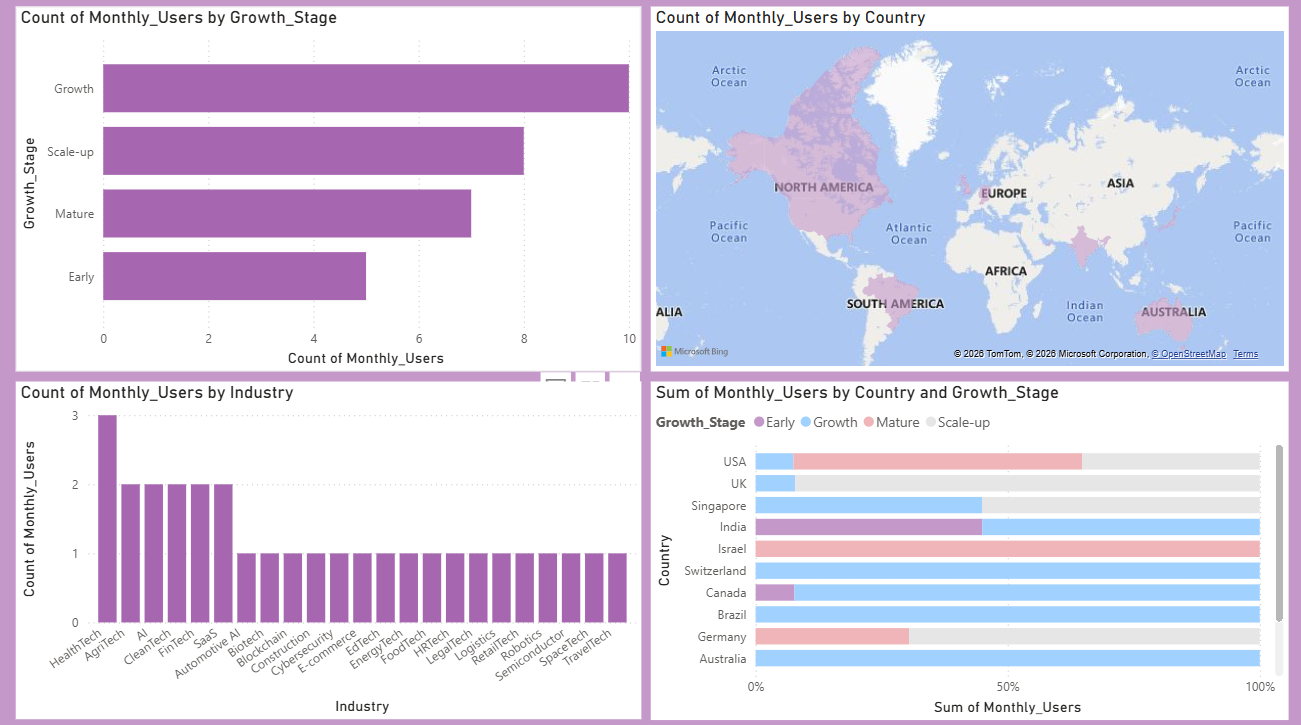

The dashboard page shown, as its layout file describes it:
{"tool":"powerbi","page":{"name":"USERS","canvas":[1280,720],"ordinal":2},"visuals":[{"type":"barChart","fields":{"Y":["CountNonNull(Sheet.Monthly_Users)"],"Category":["Sheet.Growth_Stage"]},"box":[17.8,12.3,612,356.8],"z":0},{"type":"filledMap","fields":{"Category":["Sheet.Country"]},"box":[639.5,12.3,624.4,356.8],"z":1},{"type":"lineClusteredColumnComboChart","fields":{"Y":["CountNonNull(Sheet.Monthly_Users)"],"Category":["Sheet.Industry"]},"box":[17.8,378.7,612,330.7],"z":2},{"type":"hundredPercentStackedBarChart","fields":{"Y":["Sum(Sheet.Monthly_Users)"],"Category":["Sheet.Country"],"Series":["Sheet.Growth_Stage"]},"box":[639,379,624,331],"z":3}]}

Visuals, with their boxes in screenshot pixels (x1, y1, x2, y2), scaled from the page's 1280x720 canvas onto the 1301x725 screenshot:
barChart - CountNonNull(Sheet.Monthly_Users) x Sheet.Growth_Stage: locate(18, 12, 640, 372)
filledMap - Sheet.Country: locate(650, 12, 1285, 372)
lineClusteredColumnComboChart - CountNonNull(Sheet.Monthly_Users) x Sheet.Industry: locate(18, 381, 640, 714)
hundredPercentStackedBarChart - Sum(Sheet.Monthly_Users) x Sheet.Country: locate(649, 382, 1284, 715)
